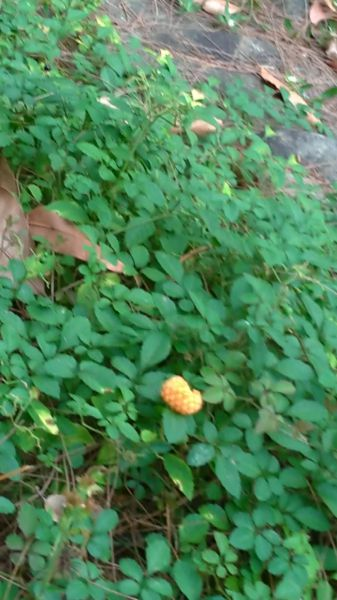eggs: (154, 371, 212, 421)
